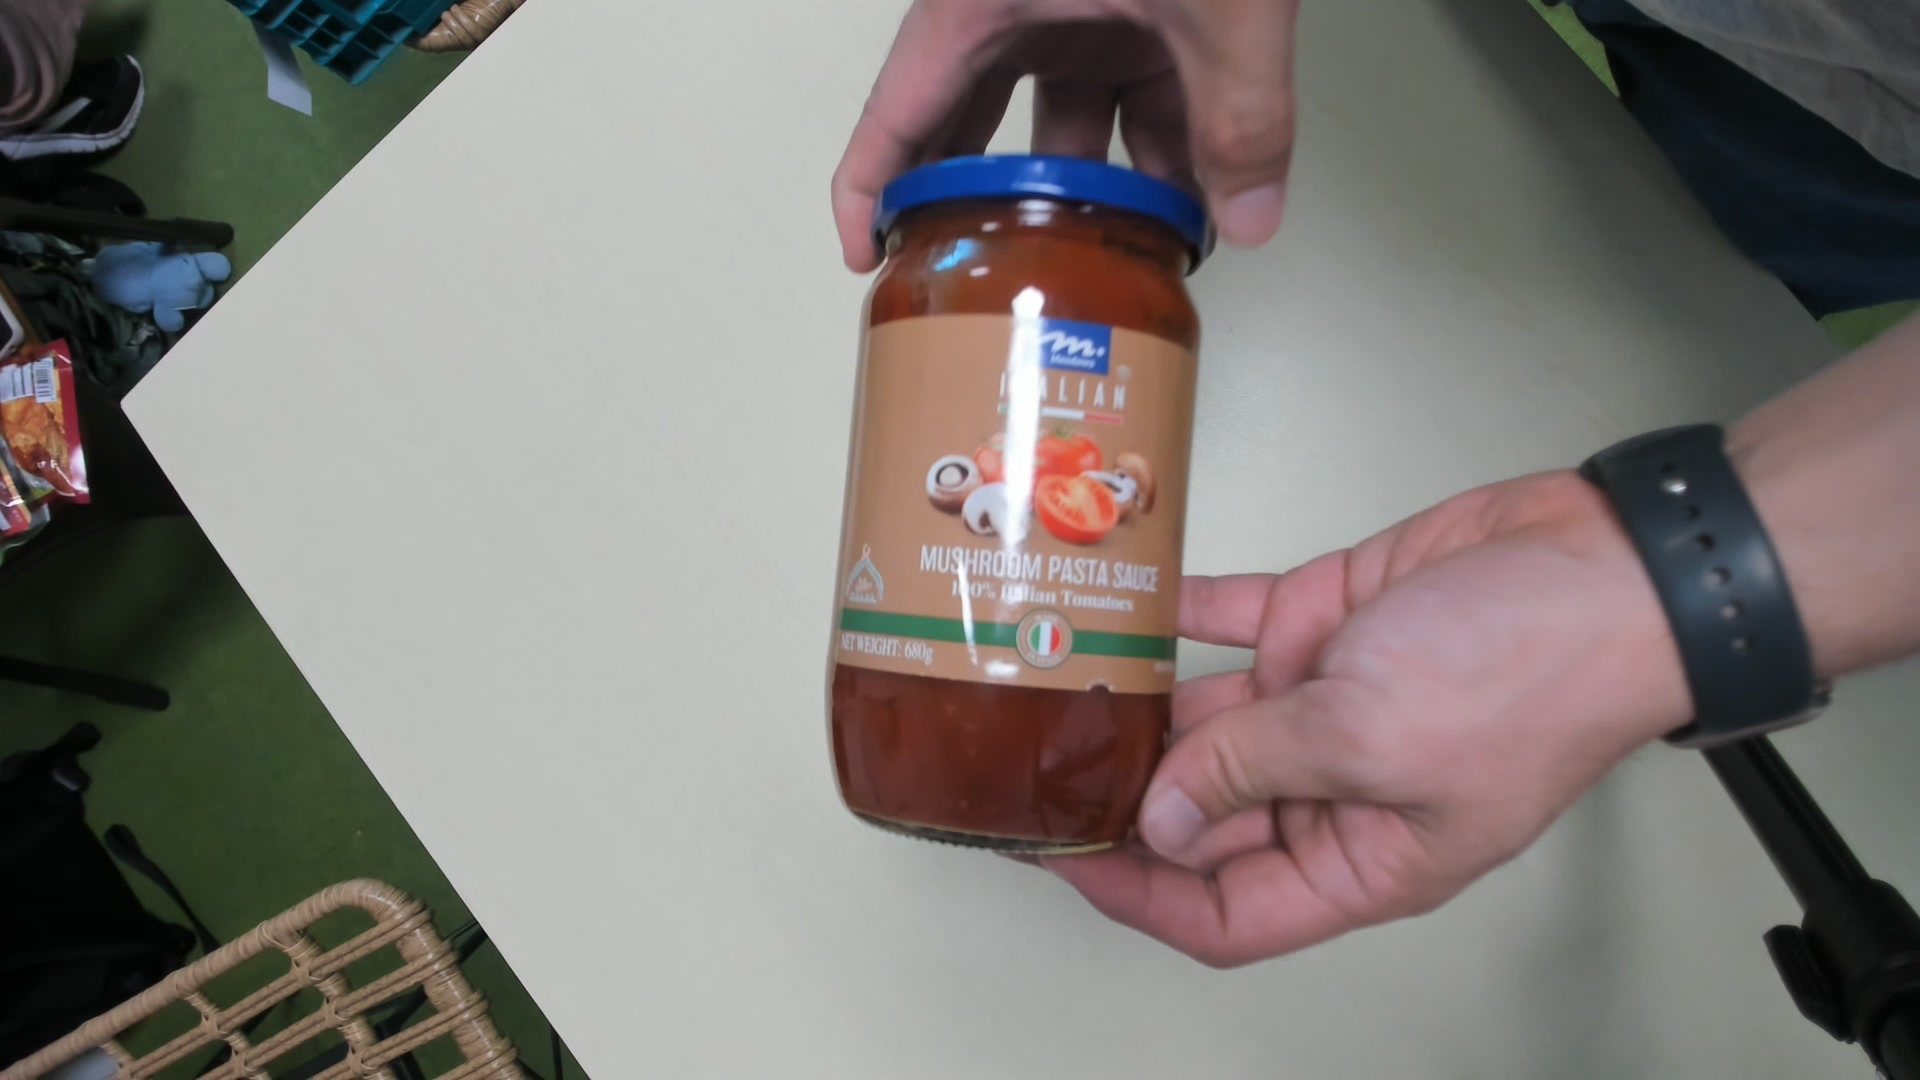PastaSauce_600-699g_Halal_NonHealthy: (836, 166, 1212, 862)
